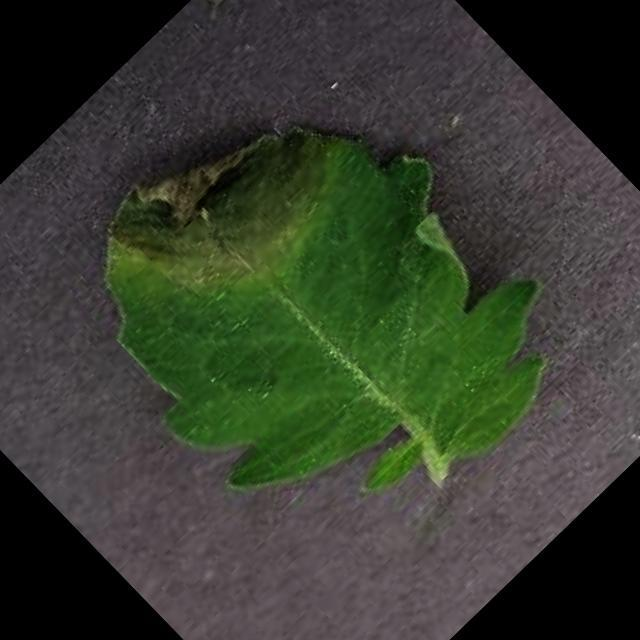Tomato late blight leaf: (27, 21, 610, 608)
